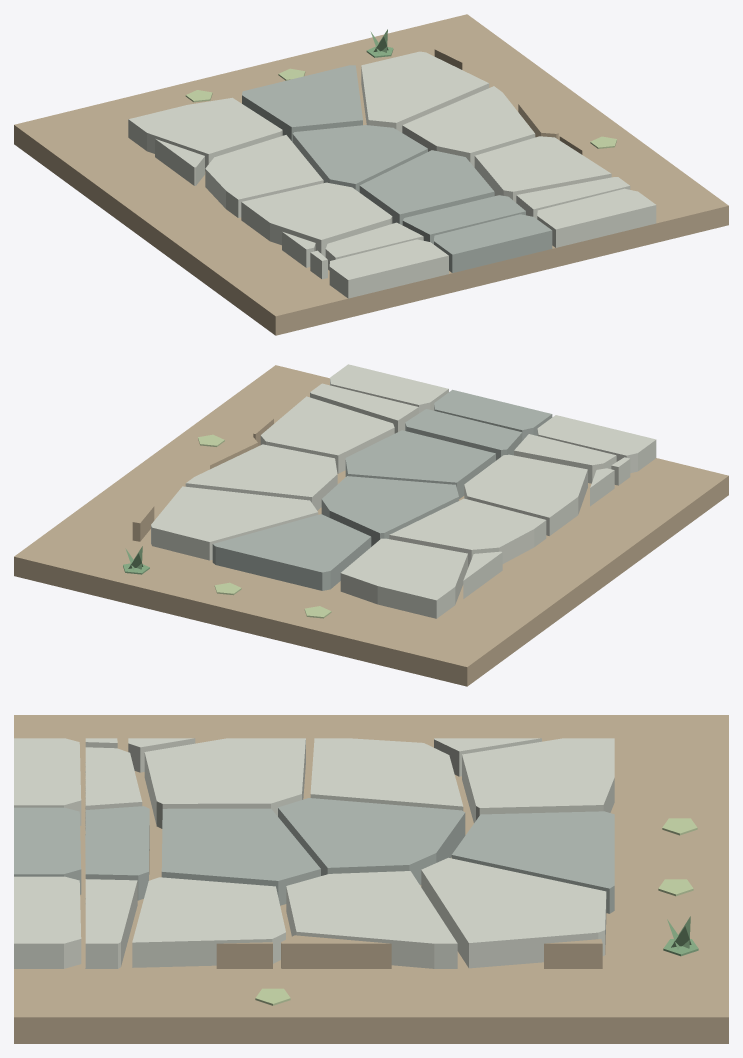
Rendered from world_road_end.fbx.
3 renders of one model, top to bottom at view 1: azimuth 30°, elevation 25°; view 2: azimuth 150°, elevation 25°; view 3: azimuth 270°, elevation 25°, orthographic. The views are drawn at different scales.
Parts seen in each view (by area): view 1: world_road_end_mesh; view 2: world_road_end_mesh; view 3: world_road_end_mesh.
Boxes of the visible parts, box(x1,y1,x2,y2) form: world_road_end_mesh: box(14, 14, 728, 335); world_road_end_mesh: box(14, 364, 728, 686); world_road_end_mesh: box(14, 715, 728, 1043).
Size of the model in its own units: 1 by 0.084 by 1.
